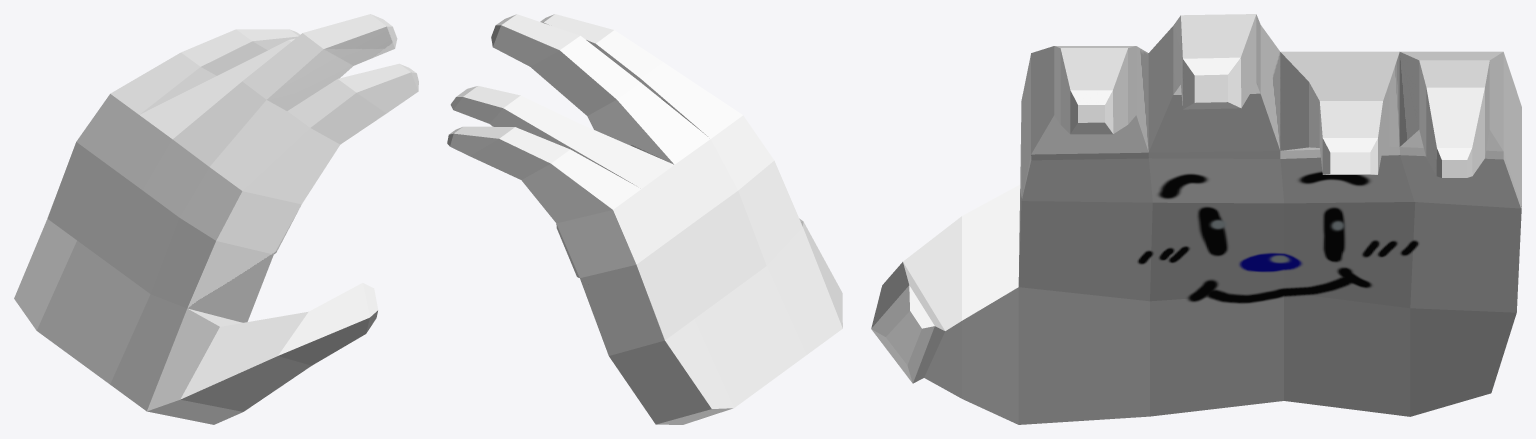
Rendered from MrHandMan.fbx.
3 views of the same model, side by side, from view 1: azimuth 30°, elevation 25°; view 2: azimuth 150°, elevation 25°; view 3: azimuth 270°, elevation 25° (orthographic). The views are drawn at different scales.
Visible parts, largest first — view 1: Cube; view 2: Cube; view 3: Cube.
Part boxes in pixels (x1,y1,x2,y2): Cube: [14, 14, 418, 424]; Cube: [447, 14, 842, 424]; Cube: [871, 14, 1521, 424].
Bounding box in the file's own units: 234 × 234 × 245.
